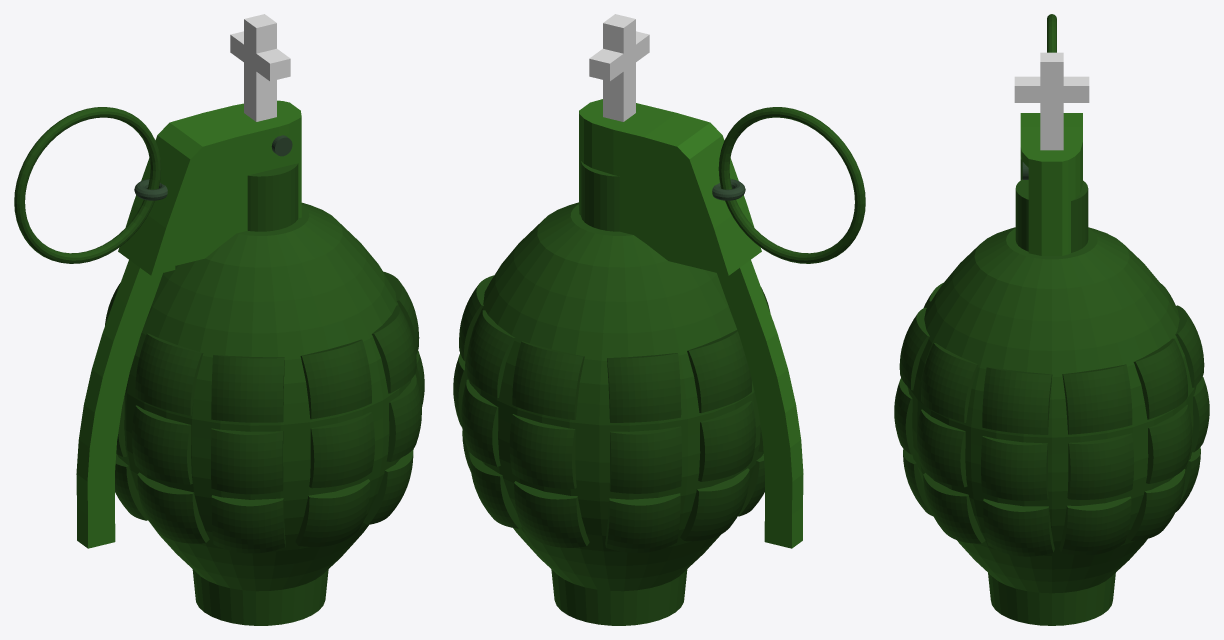
The model's file is SainteGrenade.fbx.
3 views of the same model, side by side, from view 1: azimuth 30°, elevation 25°; view 2: azimuth 150°, elevation 25°; view 3: azimuth 270°, elevation 25° (orthographic). The views are drawn at different scales.
Parts seen in each view (by area): view 1: Cylinder, Cube.008, Cube, Torus.001, Cube.001; view 2: Cylinder, Cube.008, Cube, Torus.001, Cube.001; view 3: Cylinder, Cube.008, Cube, Cube.001.
Boxes of the visible parts, x1,y1,x2,y2 form: Cylinder: (117, 163, 411, 625); Cube.008: (105, 271, 424, 553); Cube: (76, 100, 301, 548); Torus.001: (14, 107, 161, 263); Cube.001: (230, 14, 290, 121); Cylinder: (465, 161, 763, 625); Cube.008: (453, 275, 770, 552); Cube: (579, 99, 803, 548); Torus.001: (718, 107, 865, 263); Cube.001: (589, 14, 649, 121); Cylinder: (907, 179, 1196, 625); Cube.008: (894, 283, 1209, 556); Cube: (1020, 113, 1082, 255); Cube.001: (1014, 52, 1089, 150).
Size of the model in its own units: 688 by 979 by 516.
